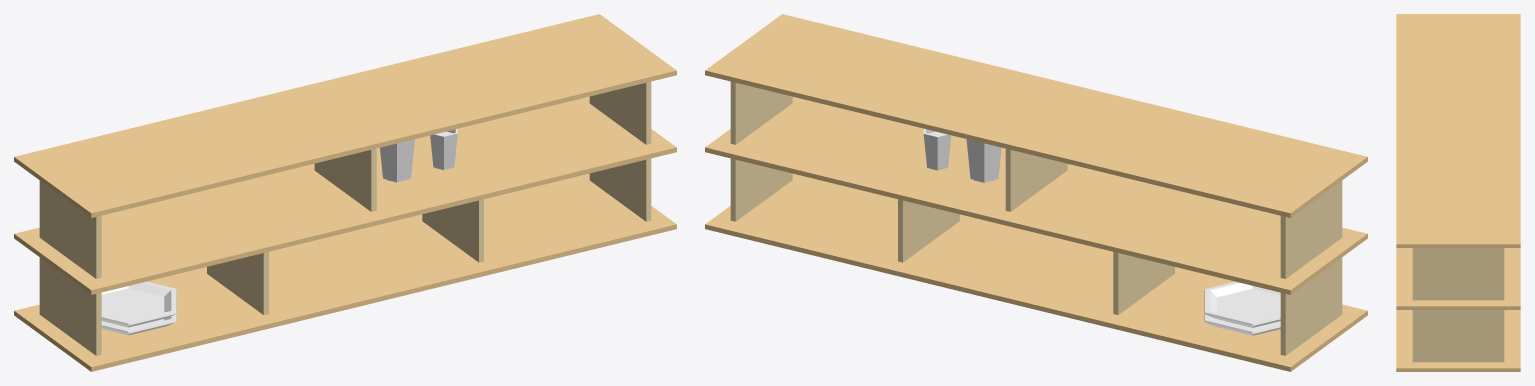
File: Shelf.fbx
3 renders of one model, left to right at view 1: azimuth 30°, elevation 25°; view 2: azimuth 150°, elevation 25°; view 3: azimuth 270°, elevation 25°, orthographic. The views are drawn at different scales.
Visible parts, largest first — view 1: Shelf; view 2: Shelf; view 3: Shelf.
Boxes of the visible parts, <box> form: Shelf: <box>14,14,676,371</box>; Shelf: <box>705,14,1367,371</box>; Shelf: <box>1396,14,1520,371</box>.
Size of the model in its own units: 2.76 by 0.7152 by 0.6313.
Materials: 1 (1 with a texture image).
